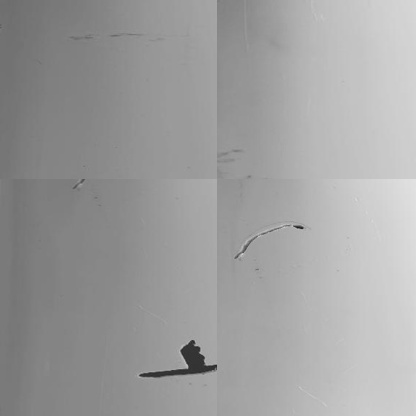fengxi: (230, 219, 311, 264)
kongdong: (143, 337, 216, 382)
